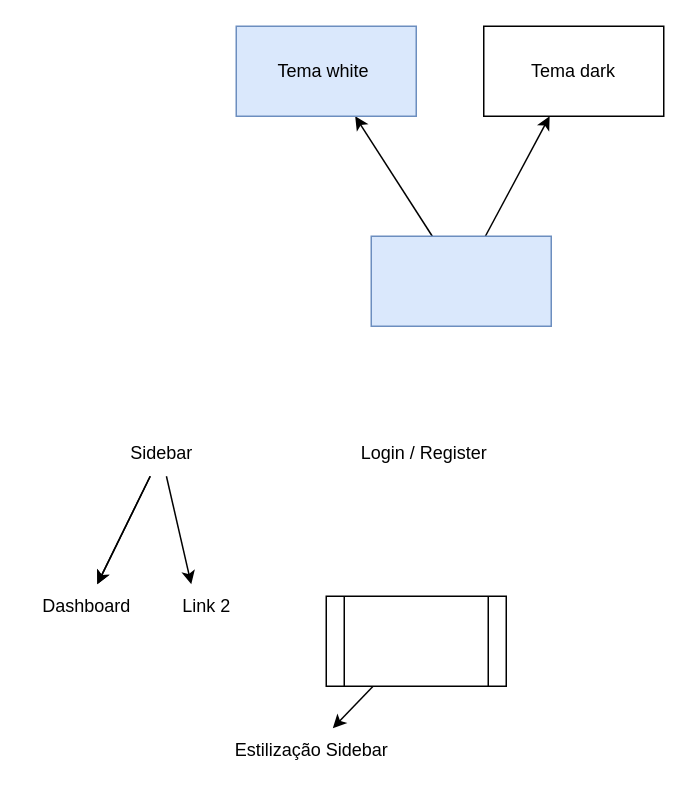
This 690x800 diagram has some shape labels left out. The shapes that lost their labels are listed below. From the top down, each one's centre as x and y in pixels, then its label:
At [460,280]: "Cores divergentes".
At [415,640]: "Continuação".
